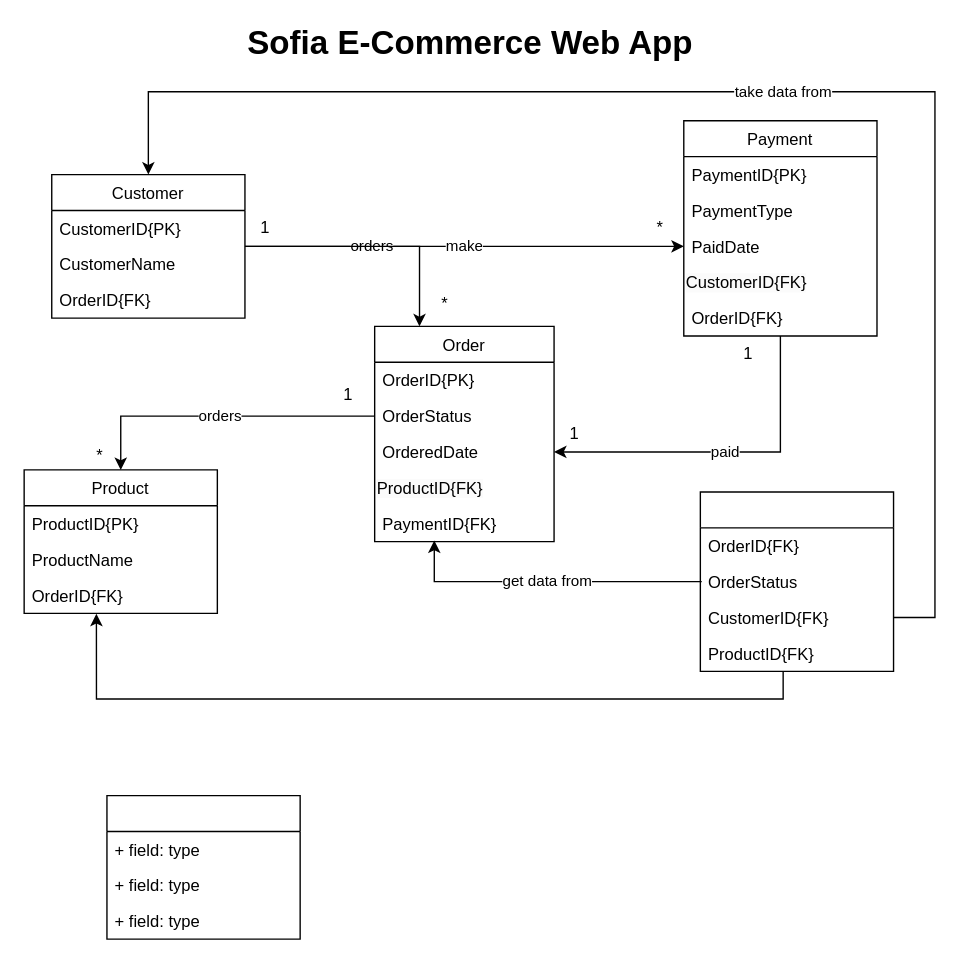
Image size: 970x967. Some labels were removed from this diagram. Here are the shapes that lost their labels. From the top down, the box of each, then its label:
(699, 491, 894, 671): OrderDetails
(106, 794, 300, 939): Classname
